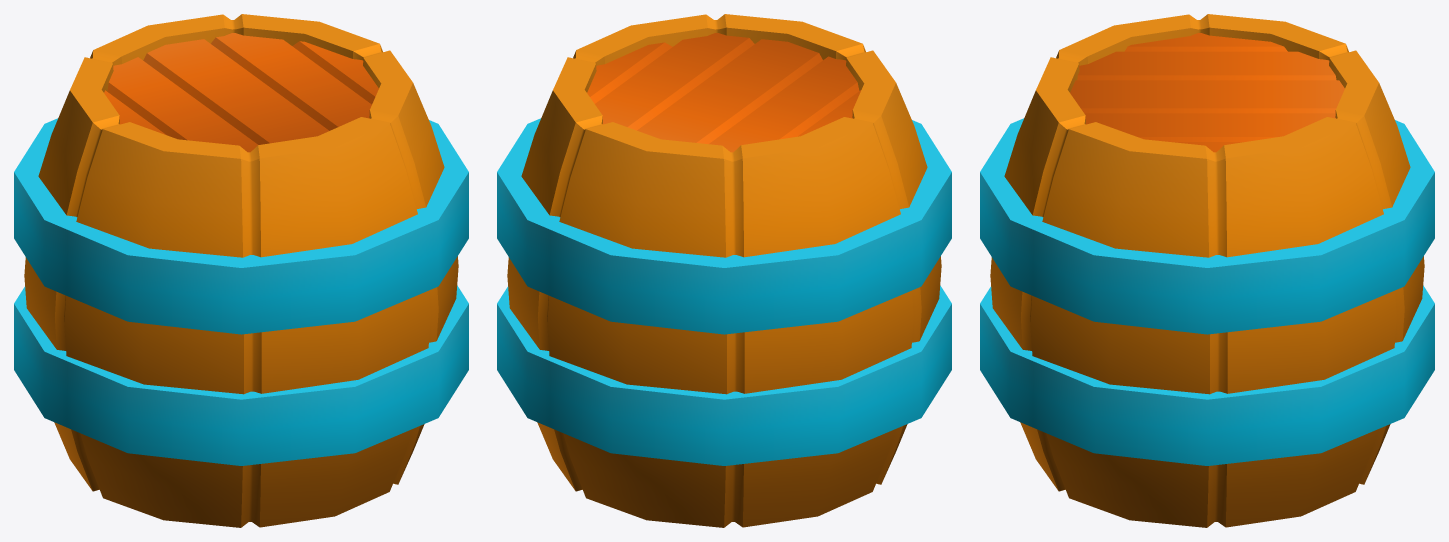
The model's file is Props_Wooden_Barrel_01.fbx.
3 renders of one model, left to right at view 1: azimuth 30°, elevation 25°; view 2: azimuth 150°, elevation 25°; view 3: azimuth 270°, elevation 25°, orthographic.
Visible parts, largest first — view 1: Props_Wooden_Barrel_01; view 2: Props_Wooden_Barrel_01; view 3: Props_Wooden_Barrel_01.
Part boxes in pixels (x1,y1,x2,y2): Props_Wooden_Barrel_01: (14, 14, 468, 527); Props_Wooden_Barrel_01: (497, 14, 951, 527); Props_Wooden_Barrel_01: (980, 14, 1434, 527).
Size of the model in its own units: 127 by 113 by 127.
